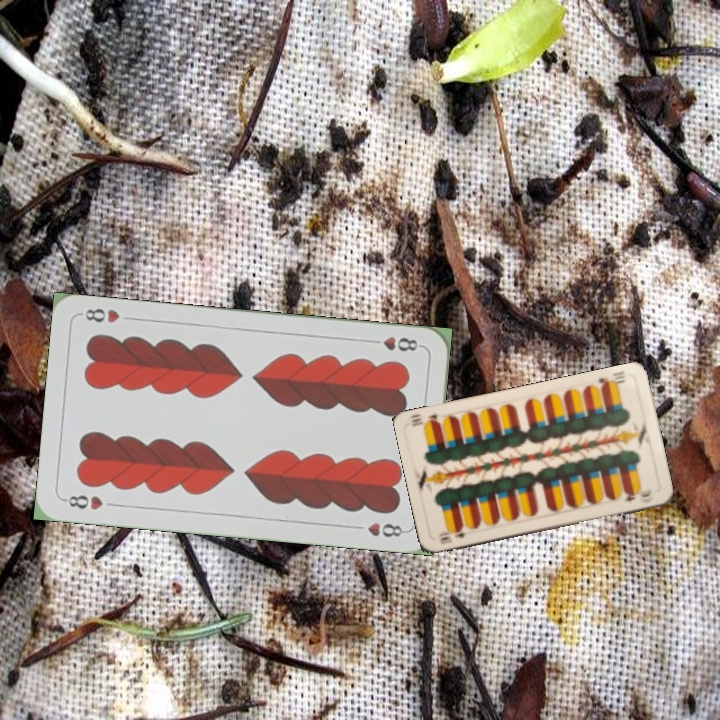E10: (594, 367, 628, 392), (434, 525, 469, 547)
H8: (365, 332, 424, 354), (60, 491, 106, 513)
